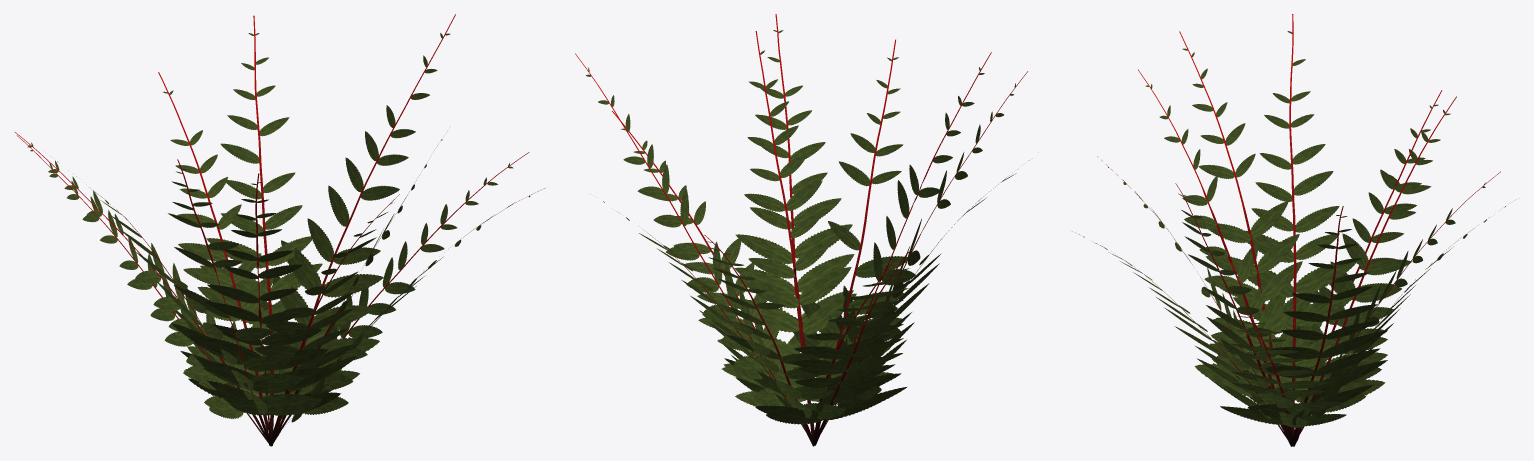
The model's file is bracken_v01_LOD1.fbx.
3 renders of one model, left to right at view 1: azimuth 30°, elevation 25°; view 2: azimuth 150°, elevation 25°; view 3: azimuth 270°, elevation 25°, orthographic. The views are drawn at different scales.
Parts seen in each view (by area): view 1: bracken_v01_LOD1; view 2: bracken_v01_LOD1; view 3: bracken_v01_LOD1.
Boxes of the visible parts, <box> form: bracken_v01_LOD1: <box>15,14,544,446</box>; bracken_v01_LOD1: <box>575,14,1029,446</box>; bracken_v01_LOD1: <box>1072,14,1516,446</box>.
Size of the model in its own units: 167 by 128 by 151.
